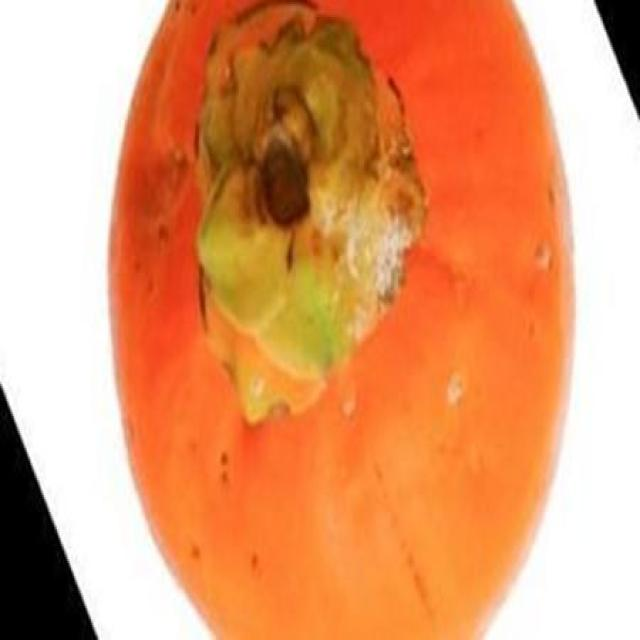good: (105, 0, 579, 638)
